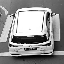mobil: (7, 6, 55, 57)
